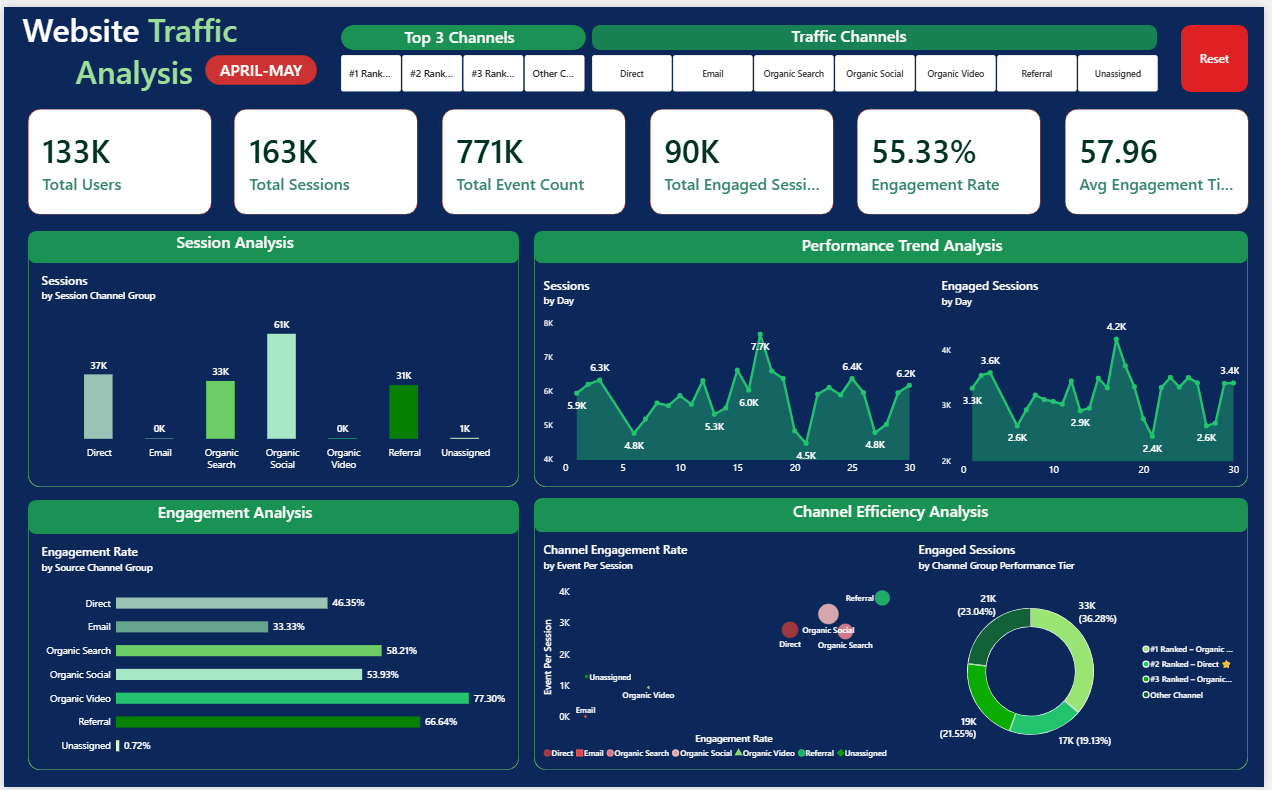

The page's visual inventory and layout, read from the dashboard file:
{"tool":"powerbi","page":{"name":"Dashboard","canvas":[2100,1300],"ordinal":0},"visuals":[{"type":"shape","box":[335,80,186.7,50],"z":0},{"type":"shape","box":[40,373.3,818.3,426.7],"z":0,"group":"g1"},{"type":"shape","box":[883.3,373.3,1190,426.7],"z":0,"group":"g4"},{"type":"shape","box":[883.3,818.3,1190,453.3],"z":0,"group":"g3"},{"type":"shape","box":[40,821.7,818.3,450],"z":0,"group":"g2"},{"type":"shape","box":[980,30,941.7,41.7],"z":1000},{"type":"shape","box":[40,373.3,818.3,53.9],"z":1000,"group":"g1"},{"type":"shape","box":[883.3,373.3,1190,53.9],"z":1000,"group":"g4"},{"type":"shape","box":[883.3,818.3,1190,57.2],"z":1000,"group":"g3"},{"type":"shape","box":[40,821.7,818.3,56.8],"z":1000,"group":"g2"},{"type":"shape","box":[40,170,306,176],"z":3000},{"type":"shape","box":[384,170,306,176],"z":4000},{"type":"shape","box":[730,170,306,176],"z":5000},{"type":"shape","box":[1076,170,306,176],"z":6000},{"type":"shape","box":[1422,170,306,176],"z":7000},{"type":"shape","box":[1768,170,306,176],"z":8000},{"type":"textbox","box":[0,0,434,142],"z":9000},{"type":"cardVisual","fields":{"Data":["Website Traffic.Total Users"]},"box":[52,182,284,150],"z":10000},{"type":"cardVisual","fields":{"Data":["Website Traffic.Total Sessions"]},"box":[396,182,284,150],"z":11000},{"type":"cardVisual","fields":{"Data":["Website Traffic.Total Event Count"]},"box":[742,182,284,150],"z":12000},{"type":"cardVisual","fields":{"Data":["Website Traffic.Total Engaged Sessions"]},"box":[1088,182,284,150],"z":13000},{"type":"cardVisual","fields":{"Data":["Website Traffic.Engagement Rate"]},"box":[1434,182,284,150],"z":14000},{"type":"cardVisual","fields":{"Data":["Website Traffic.Avg Engagement Time Per Session"]},"box":[1780,182,284,150],"z":15000},{"type":"group","id":"g1","title":"Group 1","box":[40,373.3,818.3,426.7],"z":16000},{"type":"group","id":"g2","title":"Group 1","box":[40,821.7,818.3,450],"z":17000},{"type":"group","id":"g3","title":"Group 1","box":[883.3,818.3,1190,453.3],"z":18000},{"type":"group","id":"g4","title":"Group 1","box":[883.3,373.3,1190,426.7],"z":19000},{"type":"advancedSlicerVisual","fields":{"Values":["Website Traffic.Session _Channel_Group"]},"box":[980,80,948.3,61.7],"z":20000},{"type":"textbox","box":[1088.3,30,640,40],"z":21000},{"type":"textbox","box":[335,86.7,186.7,43.3],"z":22000},{"type":"scatterChart","title":"Channel  Engagement Rate","fields":{"Y":["Sum(Website Traffic.Events_ Per_ Session)"],"Series":["Website Traffic.Session _Channel_Group"],"X":["Sum(Website Traffic.Engagement_ Rate)"],"Size":["Sum(Website Traffic.Sessions)"]},"box":[883.3,875,613.3,396.7],"z":23000},{"type":"textbox","box":[1288.3,821.7,378.3,50],"z":24000},{"type":"columnChart","title":"Sessions","fields":{"Category":["Website Traffic.Session _Channel_Group"],"Y":["Sum(Website Traffic.Sessions)"]},"box":[46.7,426.7,805,365],"z":25000},{"type":"lineChart","title":"Sessions","fields":{"Y":["Website Traffic.Total Sessions"],"Category":["Website Traffic.Date.Variation.Date Hierarchy.Day"]},"box":[883.3,435,651.7,365],"z":26000},{"type":"donutChart","title":"Engaged Sessions","fields":{"Category":["Website Traffic.Channel Group Performance Tier"],"Y":["Website Traffic.Total Engaged Sessions"]},"box":[1508.3,875,565,396.7],"z":26001},{"type":"lineChart","title":" Engaged Sessions","fields":{"Y":["Website Traffic.Total Engaged Sessions"],"Category":["Website Traffic.Date.Variation.Date Hierarchy.Day"]},"box":[1546.7,435,528.3,365],"z":26002},{"type":"textbox","box":[1208.3,378.3,576.7,48.3],"z":26003},{"type":"clusteredBarChart","title":"Engagement Rate ","fields":{"Category":["Website Traffic.Session _Channel_Group"],"Y":["Website Traffic.Engagement Rate"]},"box":[46.7,878.3,805,393.3],"z":26004},{"type":"textbox","box":[128.3,373.3,513.3,53.3],"z":26005},{"type":"textbox","box":[127.8,823.6,513.2,53],"z":26005,"group":"g2"},{"type":"actionButton","box":[1961.7,30,111.7,111.7],"z":26006},{"type":"advancedSlicerVisual","fields":{"Values":["Website Traffic.Channel Group Performance Tier"]},"box":[561.7,80,406.7,61.7],"z":26007},{"type":"shape","box":[561.7,30,408.3,41.7],"z":26008},{"type":"textbox","box":[598.3,31.7,321.7,38.3],"z":26009}]}

Visuals, with their boxes in screenshot pixels (x1, y1, x2, y2), scaled from the page's 2100x1300 canvas onto the 1272x790 screenshot:
shape: [203, 49, 316, 79]
shape: [24, 227, 520, 486]
shape: [535, 227, 1256, 486]
shape: [535, 497, 1256, 773]
shape: [24, 499, 520, 773]
shape: [594, 18, 1164, 44]
shape: [24, 227, 520, 260]
shape: [535, 227, 1256, 260]
shape: [535, 497, 1256, 532]
shape: [24, 499, 520, 534]
shape: [24, 103, 210, 210]
shape: [233, 103, 418, 210]
shape: [442, 103, 628, 210]
shape: [652, 103, 837, 210]
shape: [861, 103, 1047, 210]
shape: [1071, 103, 1256, 210]
textbox: [0, 0, 263, 86]
cardVisual - Website Traffic.Total Users: [31, 111, 204, 202]
cardVisual - Website Traffic.Total Sessions: [240, 111, 412, 202]
cardVisual - Website Traffic.Total Event Count: [449, 111, 621, 202]
cardVisual - Website Traffic.Total Engaged Sessions: [659, 111, 831, 202]
cardVisual - Website Traffic.Engagement Rate: [869, 111, 1041, 202]
cardVisual - Website Traffic.Avg Engagement Time Per Session: [1078, 111, 1250, 202]
"Group 1" group: [24, 227, 520, 486]
"Group 1" group: [24, 499, 520, 773]
"Group 1" group: [535, 497, 1256, 773]
"Group 1" group: [535, 227, 1256, 486]
advancedSlicerVisual - Website Traffic.Session _Channel_Group: [594, 49, 1168, 86]
textbox: [659, 18, 1047, 43]
textbox: [203, 53, 316, 79]
"Channel  Engagement Rate" scatterChart: [535, 532, 907, 773]
textbox: [780, 499, 1009, 530]
"Sessions" columnChart: [28, 259, 516, 481]
"Sessions" lineChart: [535, 264, 930, 486]
"Engaged Sessions" donutChart: [914, 532, 1256, 773]
" Engaged Sessions" lineChart: [937, 264, 1257, 486]
textbox: [732, 230, 1081, 259]
"Engagement Rate " clusteredBarChart: [28, 534, 516, 773]
textbox: [78, 227, 389, 259]
textbox: [77, 500, 388, 533]
actionButton: [1188, 18, 1256, 86]
advancedSlicerVisual - Website Traffic.Channel Group Performance Tier: [340, 49, 587, 86]
shape: [340, 18, 588, 44]
textbox: [362, 19, 557, 43]
